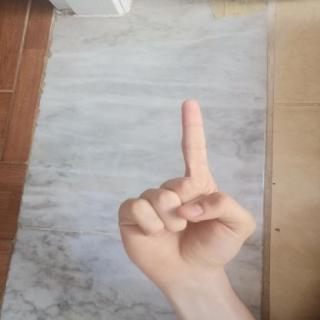BAA: (107, 92, 261, 284)
